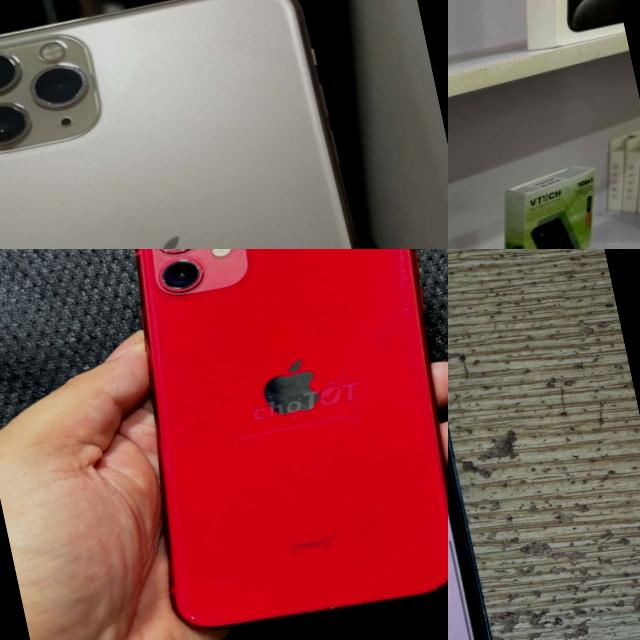gen_11: (94, 249, 448, 640), (0, 0, 439, 249)
gen_12_13: (448, 249, 545, 640)
